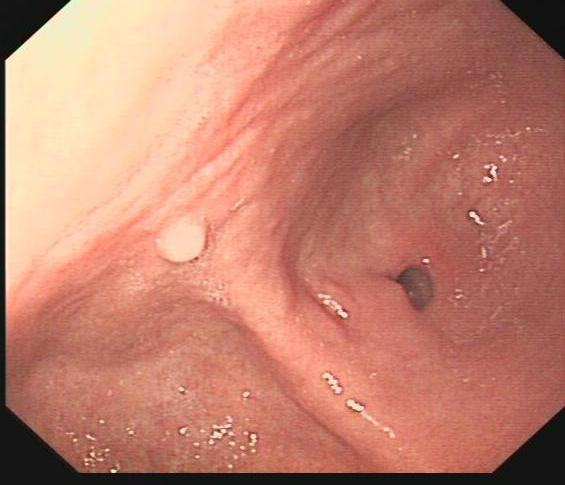Polyp: (146, 208, 217, 270)
